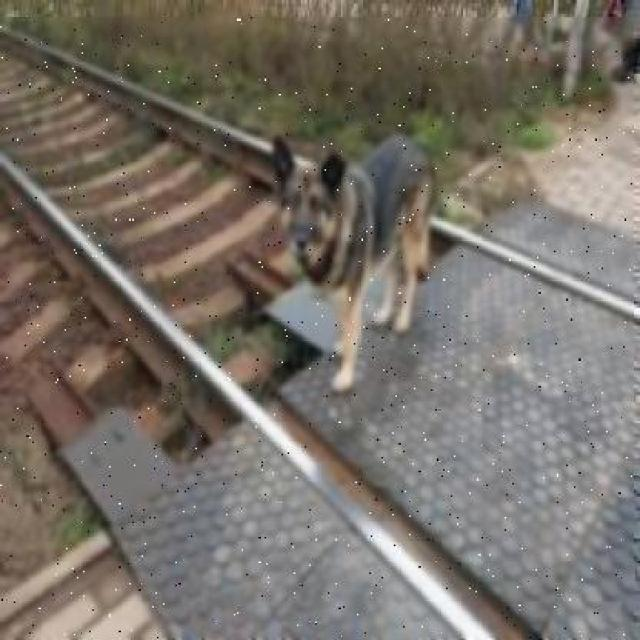rail: (2, 19, 635, 639)
